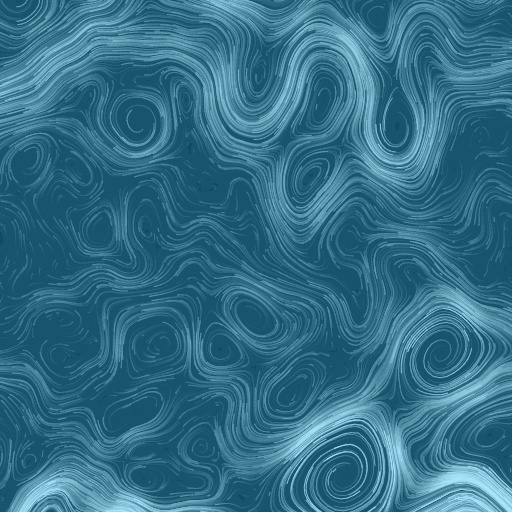eddy: (300, 438, 395, 511), (405, 318, 481, 390), (105, 88, 170, 155), (100, 385, 170, 440), (375, 86, 423, 163), (263, 359, 324, 419), (299, 70, 346, 136), (128, 319, 188, 370), (227, 288, 282, 340), (6, 134, 53, 189), (79, 203, 123, 257), (198, 324, 246, 371), (289, 153, 335, 202), (329, 217, 369, 261), (242, 50, 275, 101), (181, 427, 224, 466), (358, 1, 396, 45), (31, 302, 84, 333), (469, 418, 509, 453), (127, 463, 166, 494), (133, 209, 160, 243), (174, 81, 198, 118), (19, 451, 40, 470)
